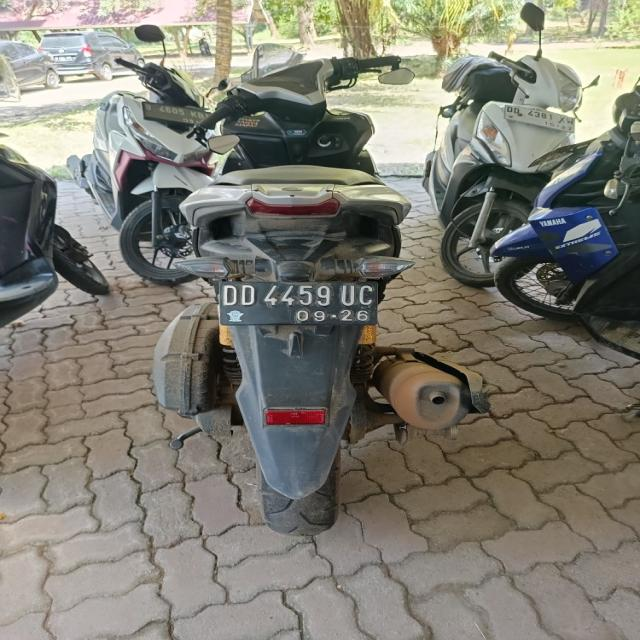plates: (224, 275, 382, 331)
